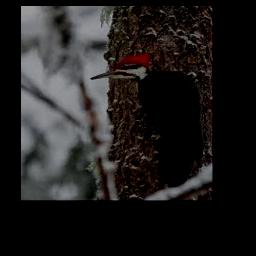Woodpecker: (91, 52, 199, 188)
